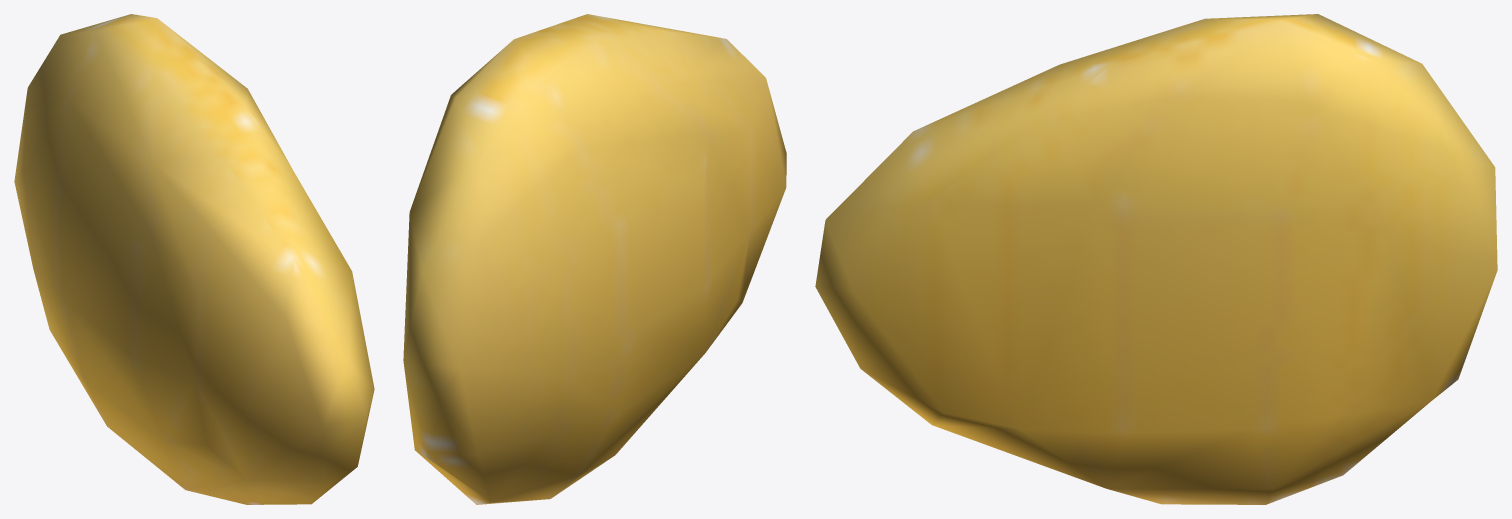
The picture shows the model from 3 angles, left to right: view 1: azimuth 30°, elevation 25°; view 2: azimuth 150°, elevation 25°; view 3: azimuth 270°, elevation 25°; orthographic projection. The views are drawn at different scales.
Size of the model in its own units: 0.4151 by 1.01 by 1.31.
1 material, 1 textured.
